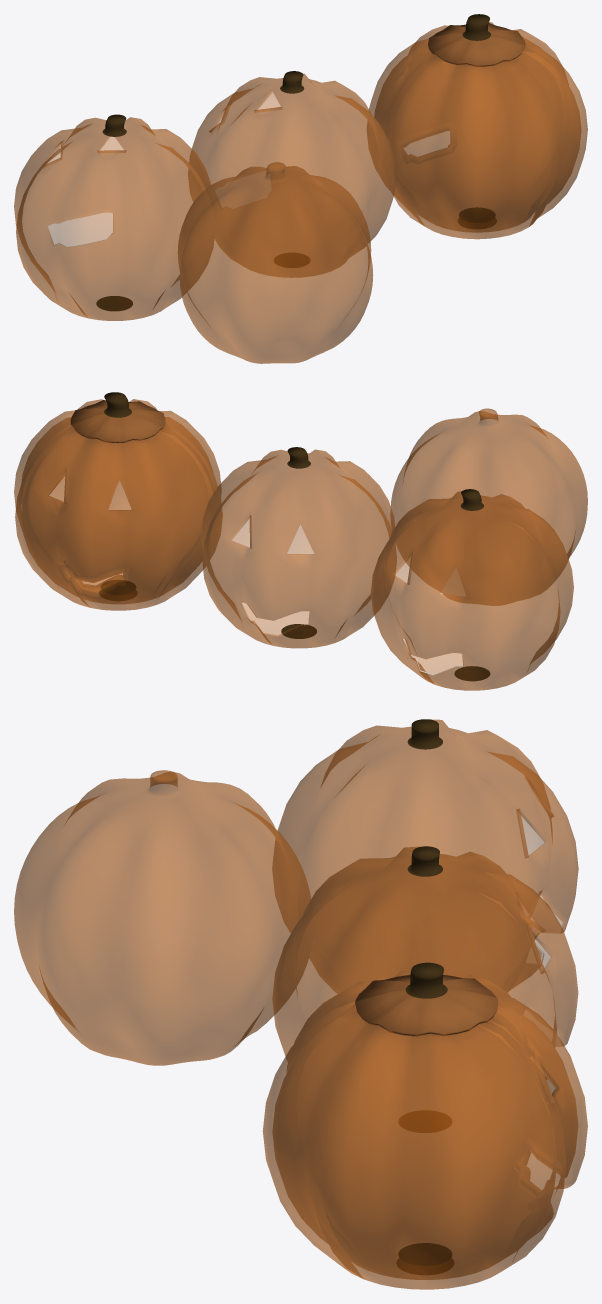
File: PUMPKIN.fbx
3 views of the same model, one above another, from view 1: azimuth 30°, elevation 25°; view 2: azimuth 150°, elevation 25°; view 3: azimuth 270°, elevation 25° (orthographic). The views are drawn at different scales.
Parts seen in each view (by area): view 1: Sphere.003, Sphere.001, Sphere, Sphere.002, Sphere.004; view 2: Sphere.003, Sphere.001, Sphere.002, Sphere, Sphere.004; view 3: Sphere.003, Sphere, Sphere.001, Sphere.002, Sphere.004.
Part boxes in pixels (left/top/right/bottom): Sphere.003: left=367, top=22, right=587, bottom=239; Sphere.001: left=14, top=114, right=214, bottom=320; Sphere: left=177, top=162, right=372, bottom=363; Sphere.002: left=188, top=71, right=396, bottom=277; Sphere.004: left=428, top=14, right=525, bottom=66; Sphere.003: left=14, top=399, right=222, bottom=610; Sphere.001: left=371, top=489, right=573, bottom=690; Sphere.002: left=201, top=447, right=396, bottom=648; Sphere: left=390, top=408, right=587, bottom=605; Sphere.004: left=70, top=392, right=165, bottom=442; Sphere.003: left=263, top=970, right=587, bottom=1289; Sphere: left=14, top=770, right=313, bottom=1065; Sphere.001: left=272, top=719, right=578, bottom=993; Sphere.002: left=272, top=846, right=578, bottom=1079; Sphere.004: left=355, top=962, right=498, bottom=1036.
Bounding box in the file's own units: 670 × 237 × 413.
